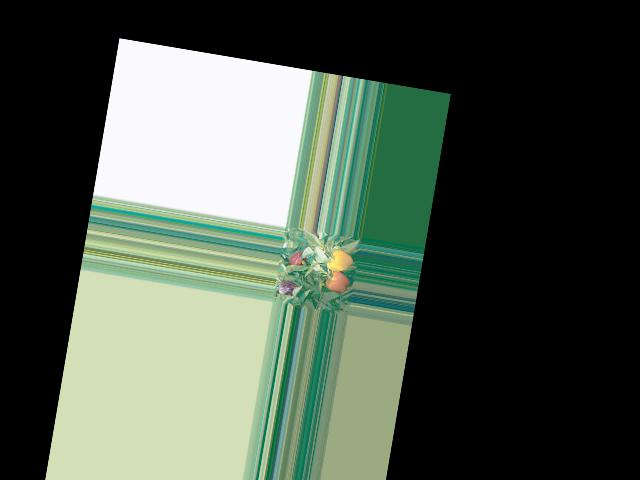bell_pepper: (324, 248, 353, 278)
